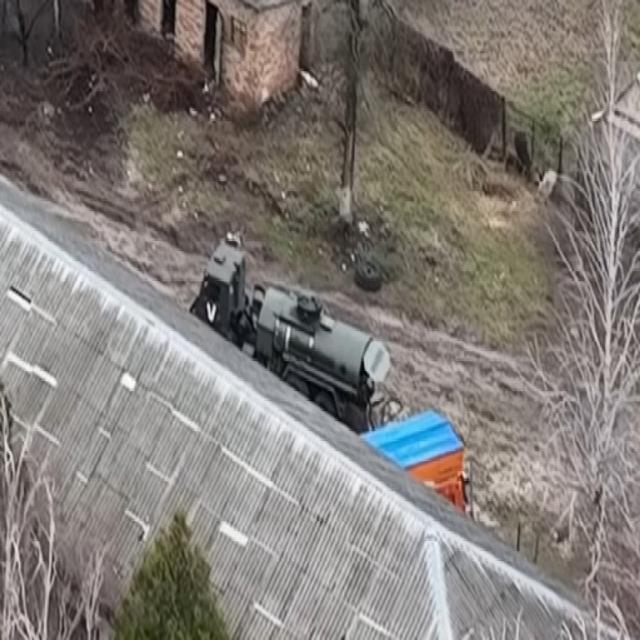TRUCK: (188, 227, 382, 442)
